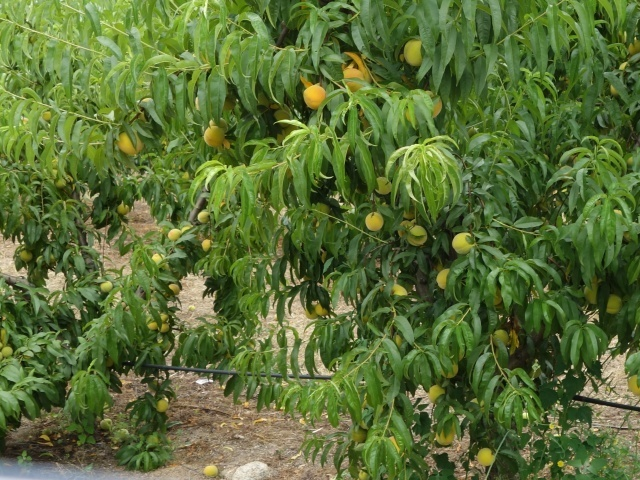peach: (112, 125, 147, 159), (398, 37, 431, 70), (297, 83, 329, 114), (448, 228, 476, 255), (269, 105, 298, 129), (600, 292, 626, 318), (203, 124, 228, 150), (363, 209, 387, 236), (406, 225, 432, 249), (473, 444, 499, 467), (581, 282, 604, 307), (489, 327, 512, 350), (433, 266, 454, 291), (372, 175, 394, 198), (436, 425, 457, 448), (624, 368, 640, 397), (427, 382, 448, 404), (440, 359, 462, 380), (302, 303, 321, 322), (311, 300, 331, 318)
